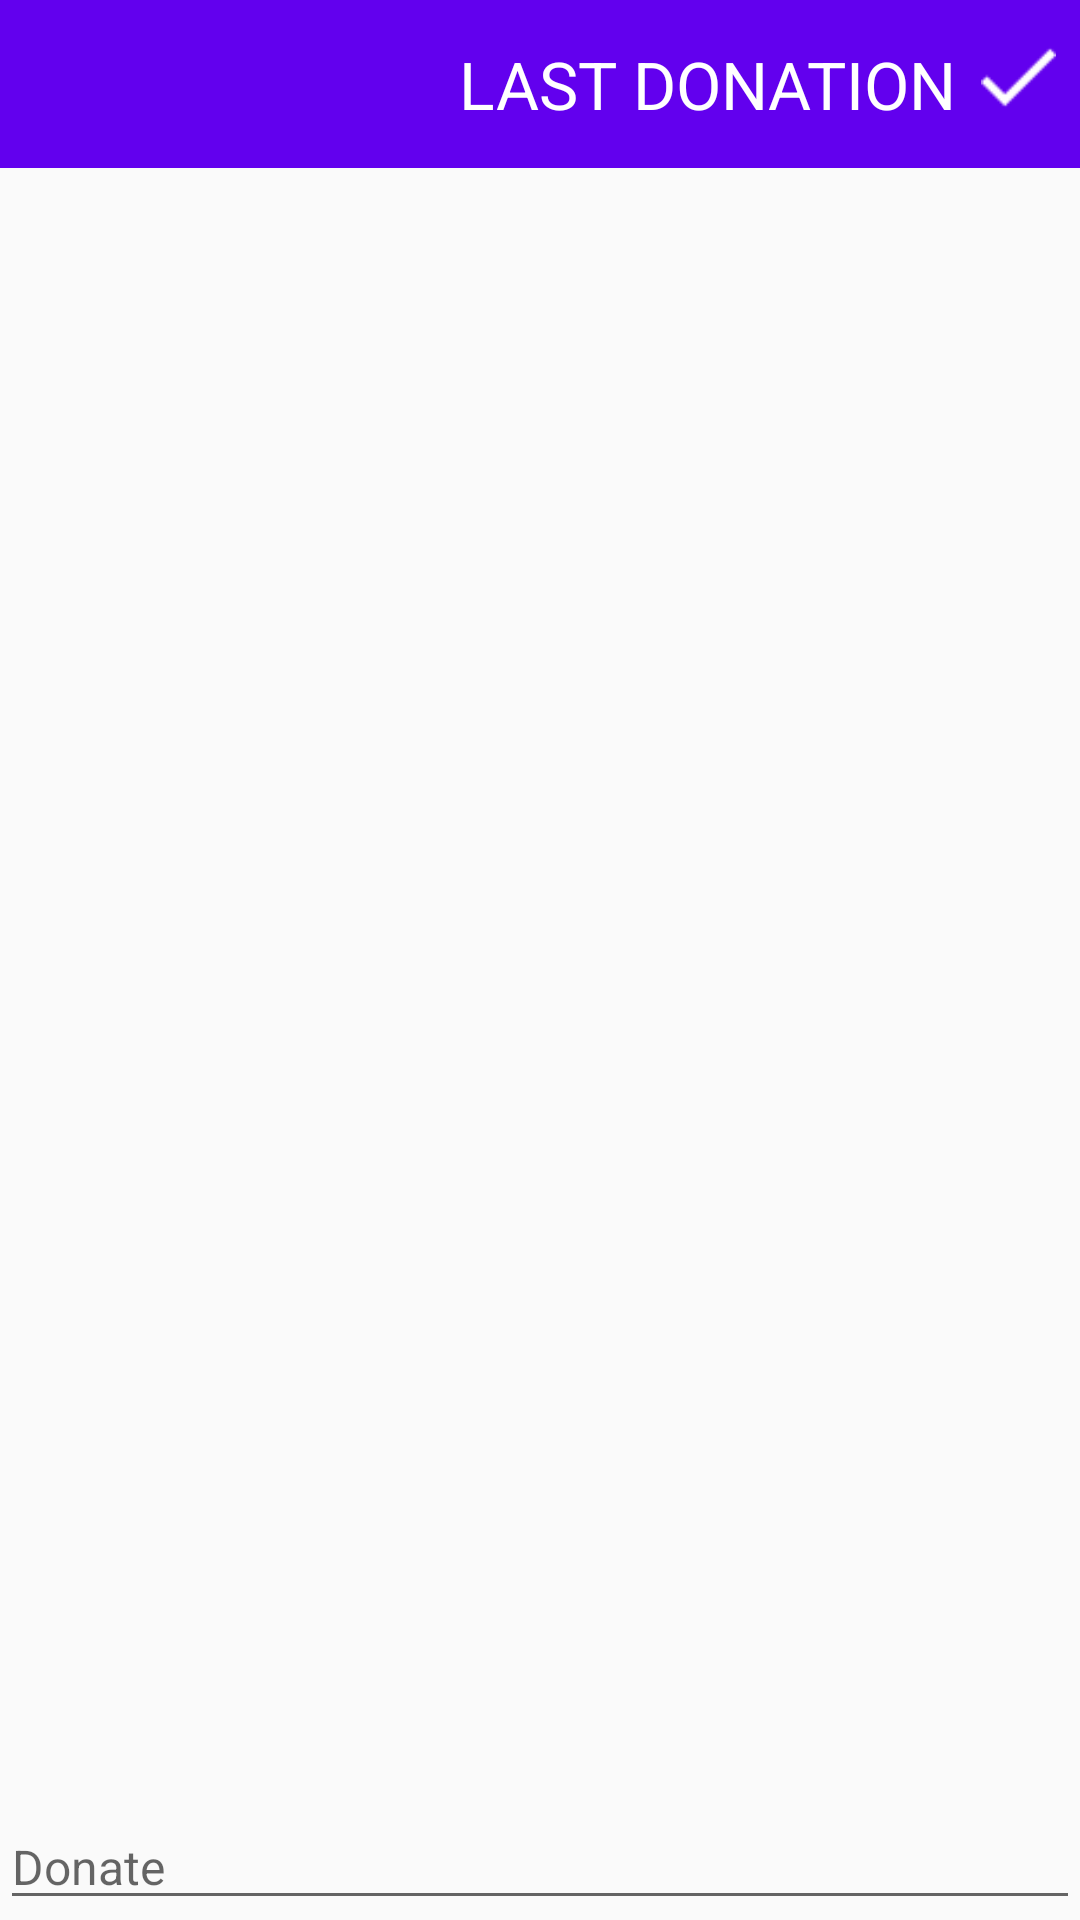

Screen size 1080×1920. Icon name, then its box in pixels as bbox(x1, y1, x2, y2):
tick mark: bbox(981, 48, 1056, 107)
